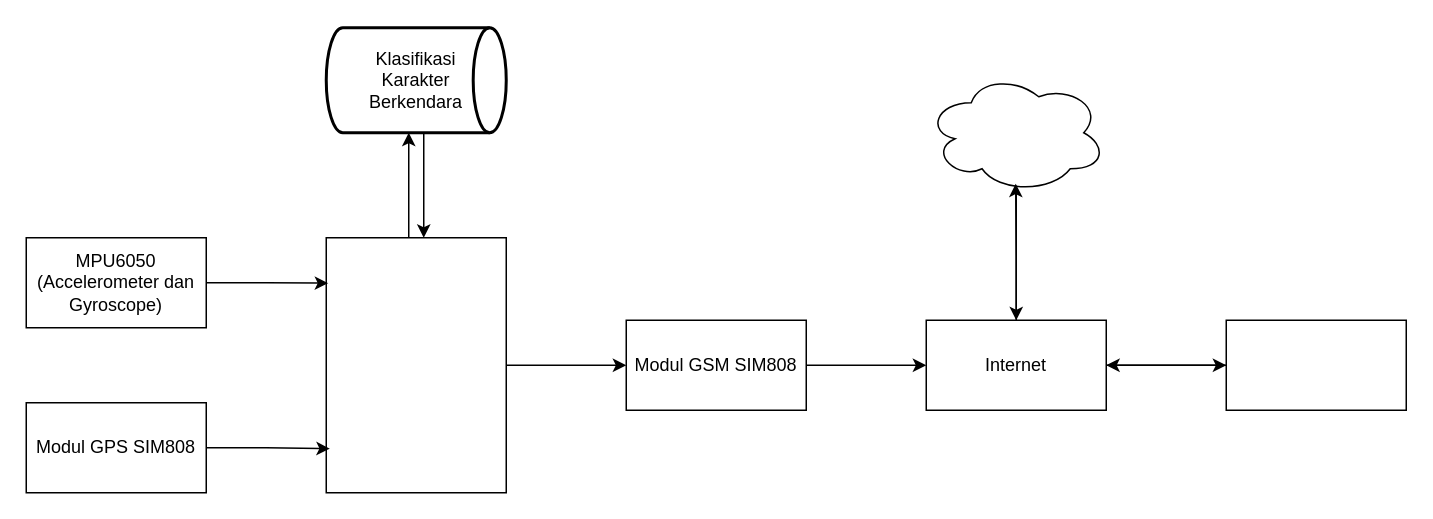
This 1433x519 diagram has some shape labels left out. The box of each missing label's shape, as (x1, y1, x2, y2) in pixels:
Arduino MEGA: (325, 236, 506, 493)
PWA: (1225, 319, 1406, 410)
Server: (925, 71, 1106, 193)
